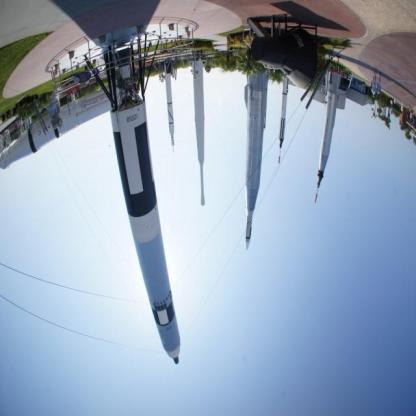MIL_TBM: (101, 76, 184, 366), (244, 63, 266, 250), (312, 70, 340, 212), (165, 61, 176, 151), (278, 70, 288, 152)
